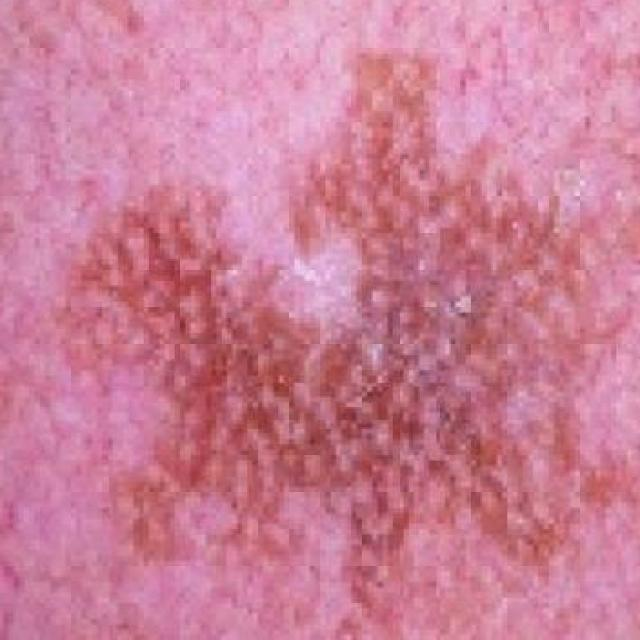BKL: (45, 8, 640, 576)
